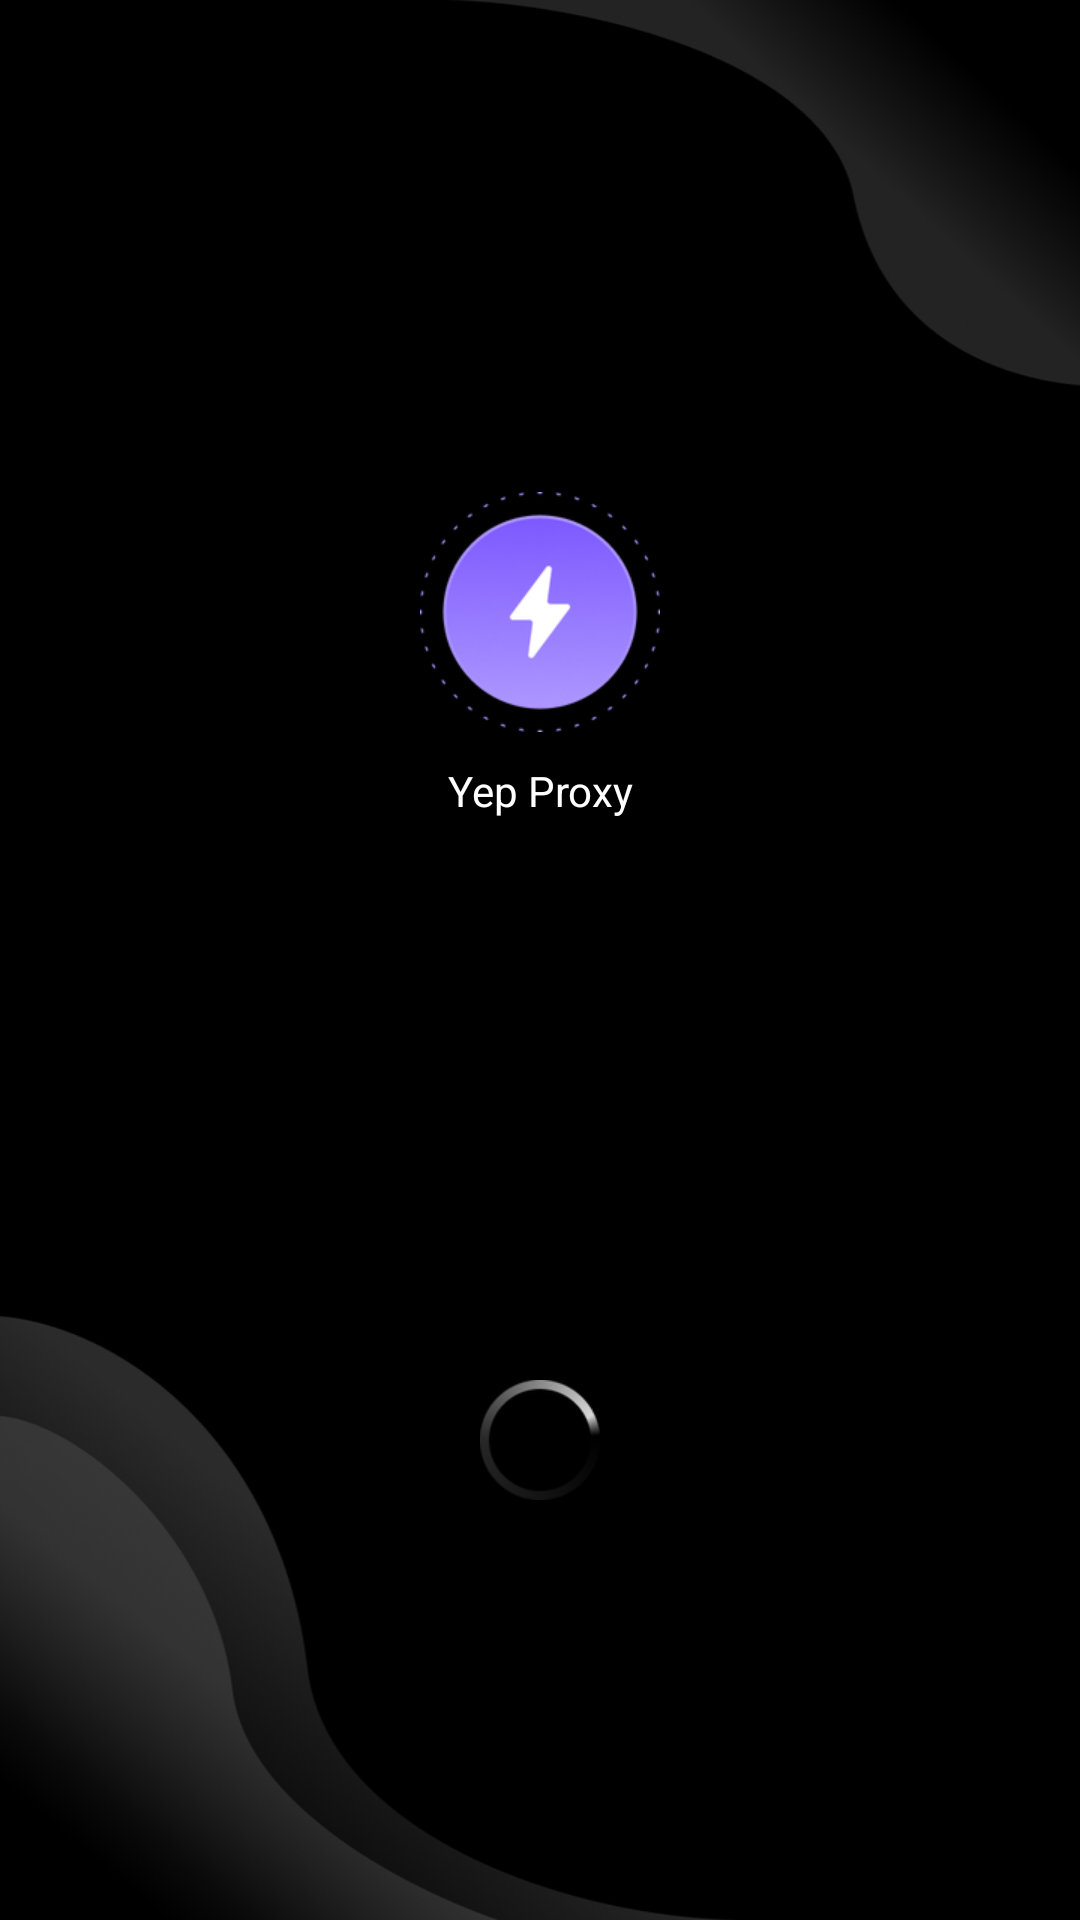

Point at icon controls on the screen. Image size 1080px x 1920px, points as point (x, y).
app: point (540, 612)
loading: point (539, 1437)
